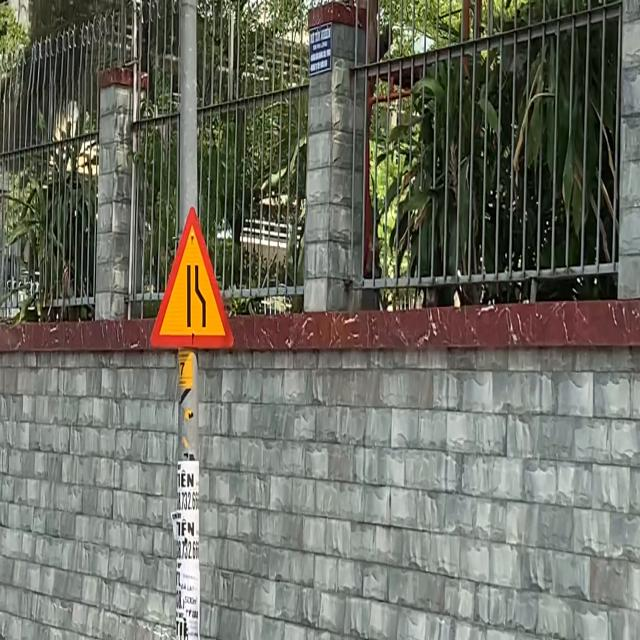Nguy hiem: (149, 205, 235, 349)
